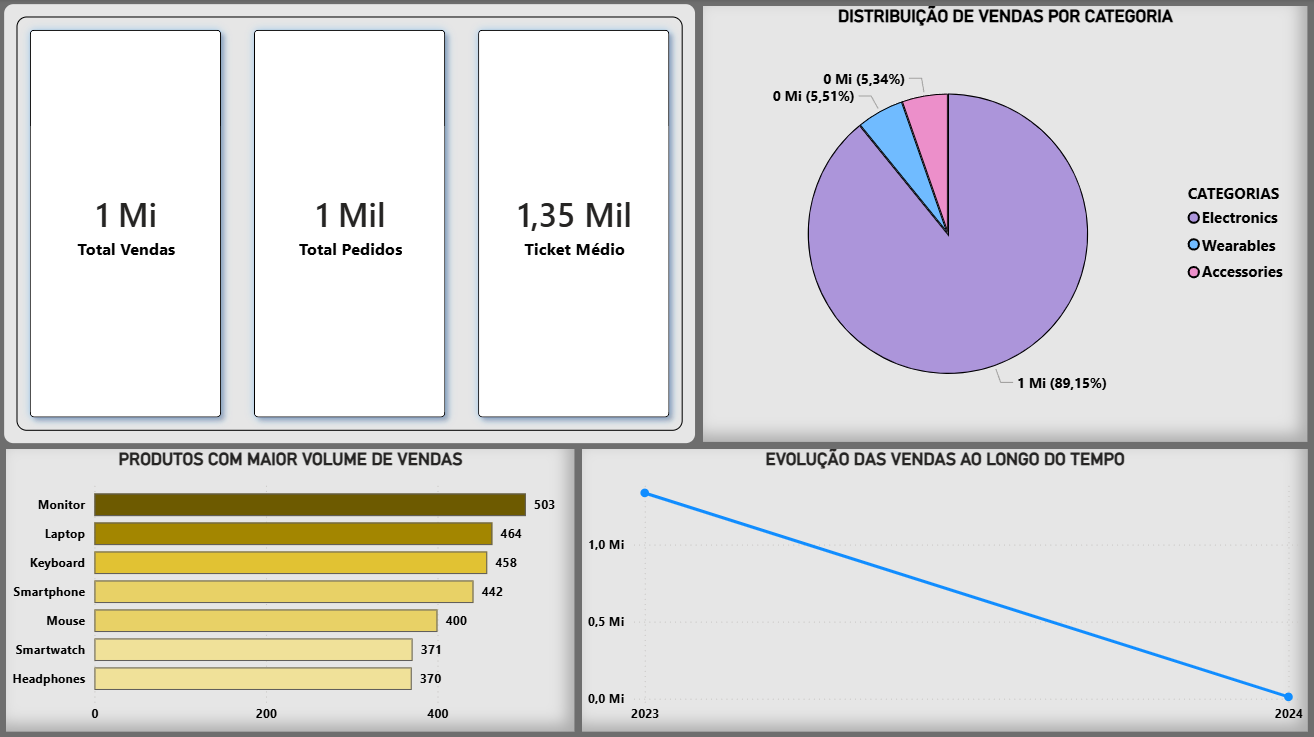

Layout of this report page (visuals, bound fields, positions):
{"tool":"powerbi","page":{"name":"DASHBOARD","canvas":[1280,720],"ordinal":0},"visuals":[{"type":"cardVisual","fields":{"Data":["vendas.Total Vendas","vendas.Total Pedidos","vendas.Ticket Médio"]},"box":[0,0,684.7,437.7],"z":0},{"type":"barChart","title":"PRODUTOS COM MAIOR VOLUME DE VENDAS","fields":{"Category":["vendas.Product Name"],"Y":["Sum(vendas.Quantity)"]},"box":[6.8,437.7,553.4,275.3],"z":1000},{"type":"pieChart","title":"DISTRIBUIÇÃO DE VENDAS POR CATEGORIA","fields":{"Category":["vendas.Category"],"Y":["Sum(vendas.Total Price)"]},"box":[684.7,6.8,588.4,424.1],"z":2000},{"type":"lineChart","title":"EVOLUÇÃO DAS VENDAS AO LONGO DO TEMPO","fields":{"Category":["vendas.Order Date.Variation.Hierarquia de datas.Ano","vendas.Order Date.Variation.Hierarquia de datas.Trimestre","vendas.Order Date.Variation.Hierarquia de datas.Mês","vendas.Order Date.Variation.Hierarquia de datas.Dia"],"Y":["Sum(vendas.Total Price)"]},"box":[567.1,437.7,706.1,275.3],"z":3000}]}

Visuals, with their boxes in screenshot pixels (x1, y1, x2, y2), scaled from the page's 1280x720 canvas onto the 1314x737 screenshot:
cardVisual - vendas.Total Vendas x vendas.Total Pedidos: <bbox>0, 0, 703, 448</bbox>
"PRODUTOS COM MAIOR VOLUME DE VENDAS" barChart: <bbox>7, 448, 575, 730</bbox>
"DISTRIBUIÇÃO DE VENDAS POR CATEGORIA" pieChart: <bbox>703, 7, 1307, 441</bbox>
"EVOLUÇÃO DAS VENDAS AO LONGO DO TEMPO" lineChart: <bbox>582, 448, 1307, 730</bbox>
